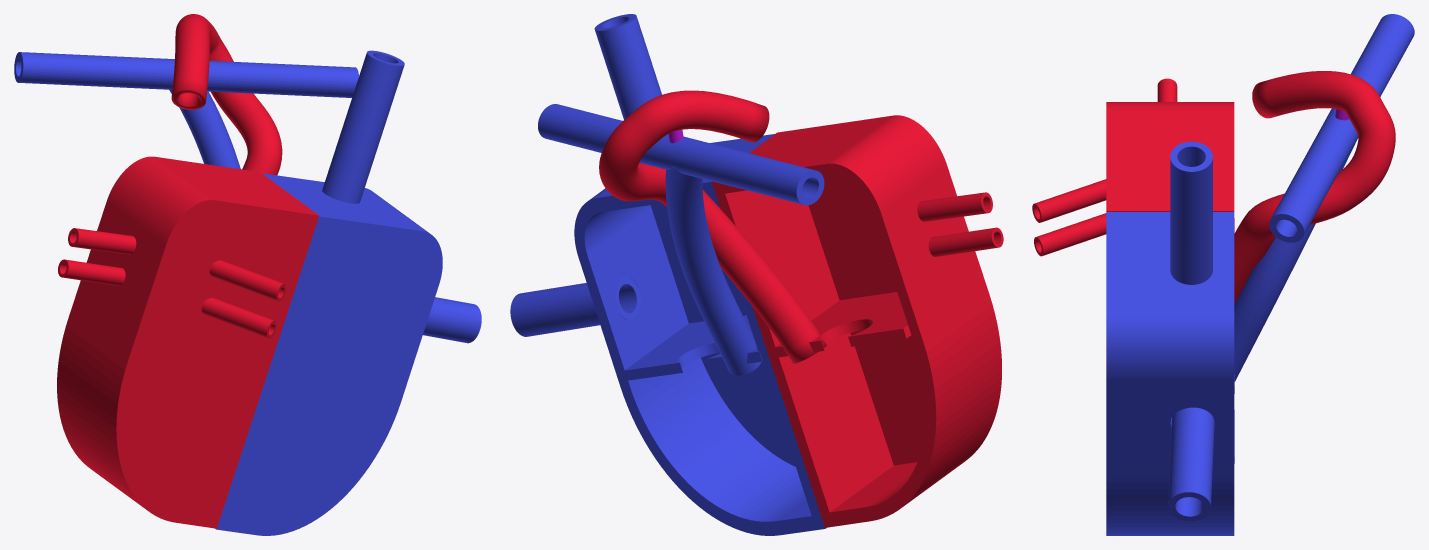
Rendered from heartmodelV4PDA.glb.
3 views of the same model, side by side, from view 1: azimuth 30°, elevation 25°; view 2: azimuth 150°, elevation 25°; view 3: azimuth 270°, elevation 25° (orthographic). The views are drawn at different scales.
Parts seen in each view (by area): view 1: Left Atria and Ventricle, Right Atria and Ventricle, Pulmonary sides hollow, BezierCurve.001, Superior hollow, Pulmonary Trunk hollow, Inferior vena cava hollow, Upper right pul hollow, lower right pul hollow, Upper left pul hollow, lower left pul. hollow; view 2: Left Atria and Ventricle, Right Atria and Ventricle, BezierCurve.001, Pulmonary sides hollow, Pulmonary Trunk hollow, Inferior vena cava hollow, Mitral Valve, Superior hollow, Tricuspid valve, Upper left pul hollow, lower left pul. hollow; view 3: Right Atria and Ventricle, BezierCurve.001, Left Atria and Ventricle, Pulmonary sides hollow, Superior hollow, Inferior vena cava hollow, Pulmonary Trunk hollow, Upper right pul hollow, lower right pul hollow, Upper left pul hollow.
Boxes of the visible parts, x1=… form: Left Atria and Ventricle: x1=57, y1=156, x2=319, y2=528; Right Atria and Ventricle: x1=215, y1=173, x2=442, y2=535; Pulmonary sides hollow: x1=14, y1=52, x2=358, y2=97; BezierCurve.001: x1=171, y1=14, x2=282, y2=175; Superior hollow: x1=322, y1=50, x2=404, y2=203; Pulmonary Trunk hollow: x1=169, y1=89, x2=240, y2=169; Inferior vena cava hollow: x1=423, y1=297, x2=481, y2=343; Upper right pul hollow: x1=209, y1=260, x2=286, y2=301; lower right pul hollow: x1=201, y1=298, x2=276, y2=338; Upper left pul hollow: x1=68, y1=228, x2=136, y2=254; lower left pul. hollow: x1=58, y1=259, x2=125, y2=285; Left Atria and Ventricle: x1=711, y1=115, x2=1001, y2=527; Right Atria and Ventricle: x1=574, y1=134, x2=826, y2=535; BezierCurve.001: x1=599, y1=90, x2=826, y2=363; Pulmonary sides hollow: x1=538, y1=104, x2=824, y2=205; Pulmonary Trunk hollow: x1=665, y1=165, x2=761, y2=375; Inferior vena cava hollow: x1=510, y1=276, x2=641, y2=336; Mitral Valve: x1=768, y1=292, x2=911, y2=358; Superior hollow: x1=594, y1=14, x2=661, y2=119; Tricuspid valve: x1=624, y1=315, x2=762, y2=380; Upper left pul hollow: x1=917, y1=192, x2=992, y2=221; lower left pul. hollow: x1=928, y1=227, x2=1003, y2=256; Right Atria and Ventricle: x1=1106, y1=212, x2=1234, y2=535; BezierCurve.001: x1=1234, y1=71, x2=1395, y2=304; Left Atria and Ventricle: x1=1106, y1=102, x2=1234, y2=211; Pulmonary sides hollow: x1=1269, y1=14, x2=1414, y2=242; Superior hollow: x1=1170, y1=141, x2=1212, y2=284; Inferior vena cava hollow: x1=1168, y1=407, x2=1214, y2=521; Pulmonary Trunk hollow: x1=1234, y1=137, x2=1358, y2=381; Upper right pul hollow: x1=1032, y1=179, x2=1106, y2=222; lower right pul hollow: x1=1034, y1=213, x2=1106, y2=256; Upper left pul hollow: x1=1157, y1=78, x2=1177, y2=101.
Size of the model in its own units: 5.94 by 5.71 by 4.3.
